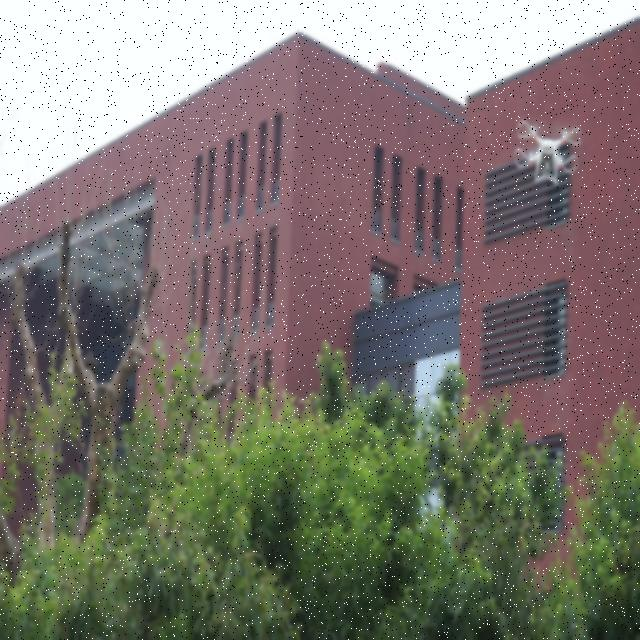UAV: (514, 120, 582, 186)
